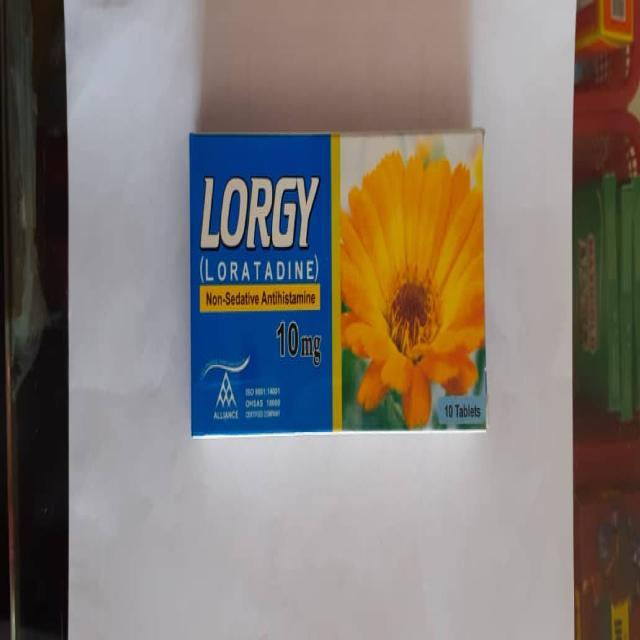drug-name: (200, 172, 322, 254)
